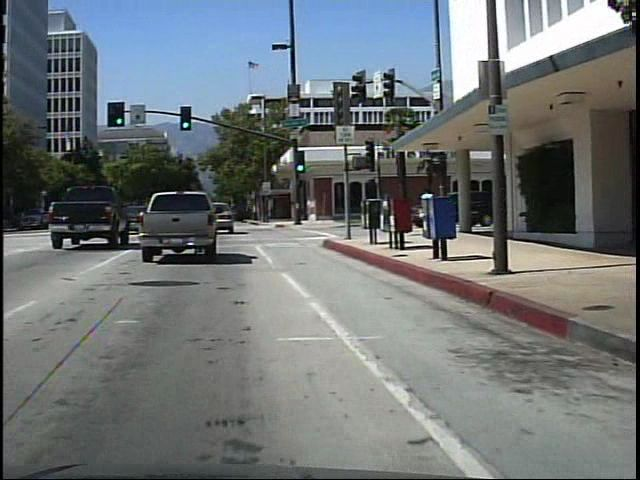car: (137, 190, 232, 258), (45, 185, 140, 253)
strada: (31, 262, 629, 480)
